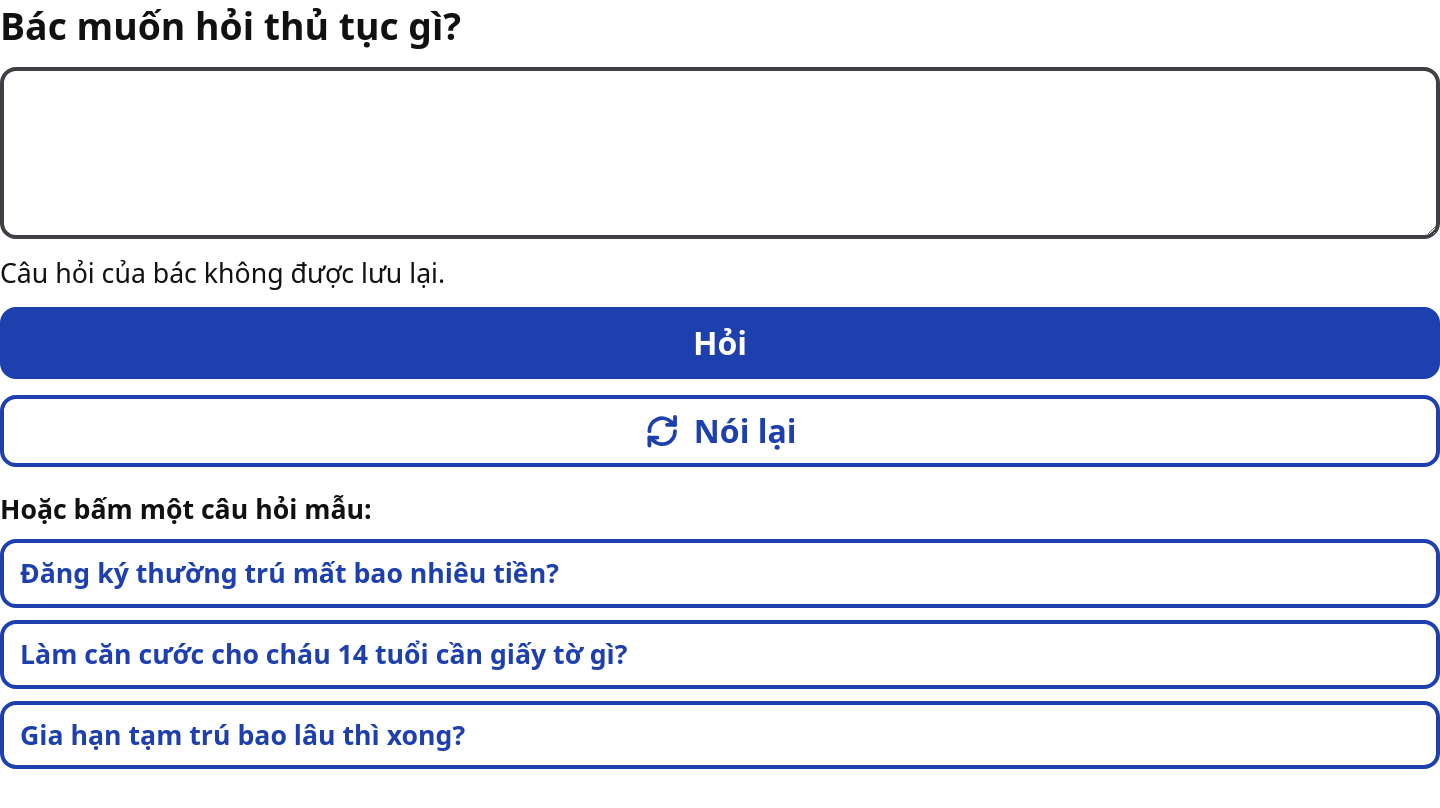
Test case: AskScreen — hỏi và trả lời › lỗi thì hiện đúng câu của máy chủ
Type "Hỏi thử" into the text box with test id "ask-input" at (720, 153), box [0, 67, 1439, 239]
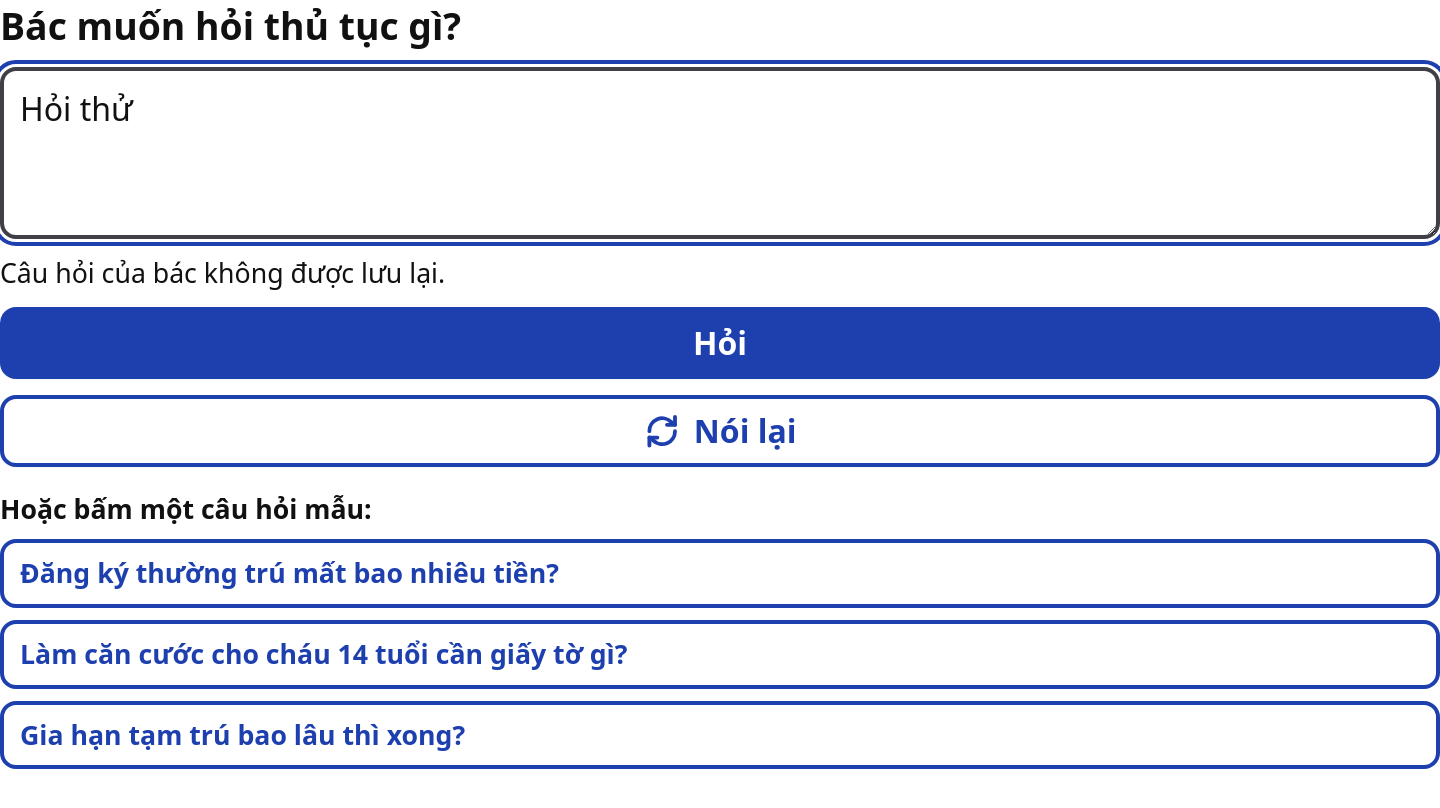
Click the button with test id "ask-submit" at (720, 343), box [0, 307, 1439, 379]
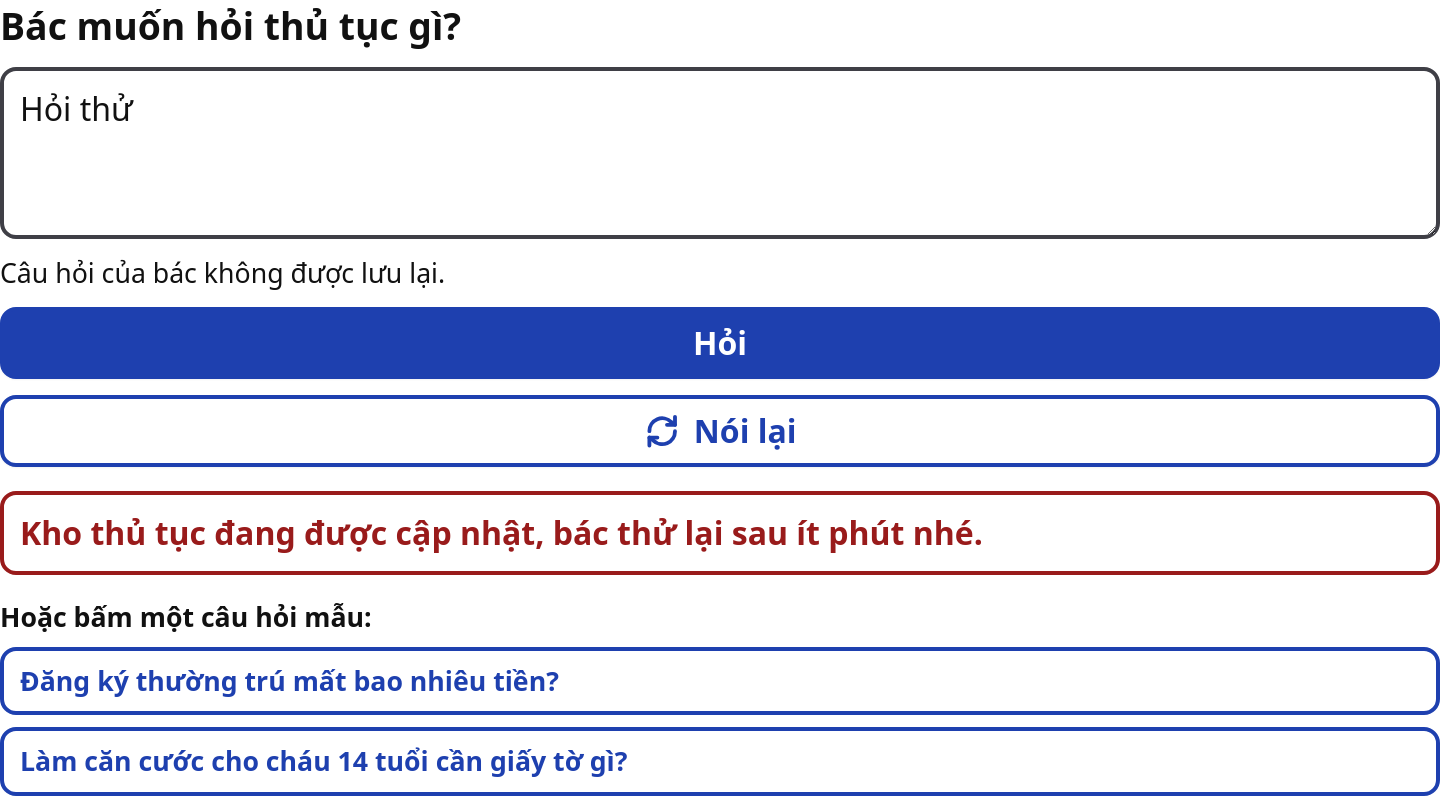
Result: the message reads "Kho thủ tục đang được cập nhật, bác thử lại sau ít phút nhé." at [20, 511, 983, 554]
